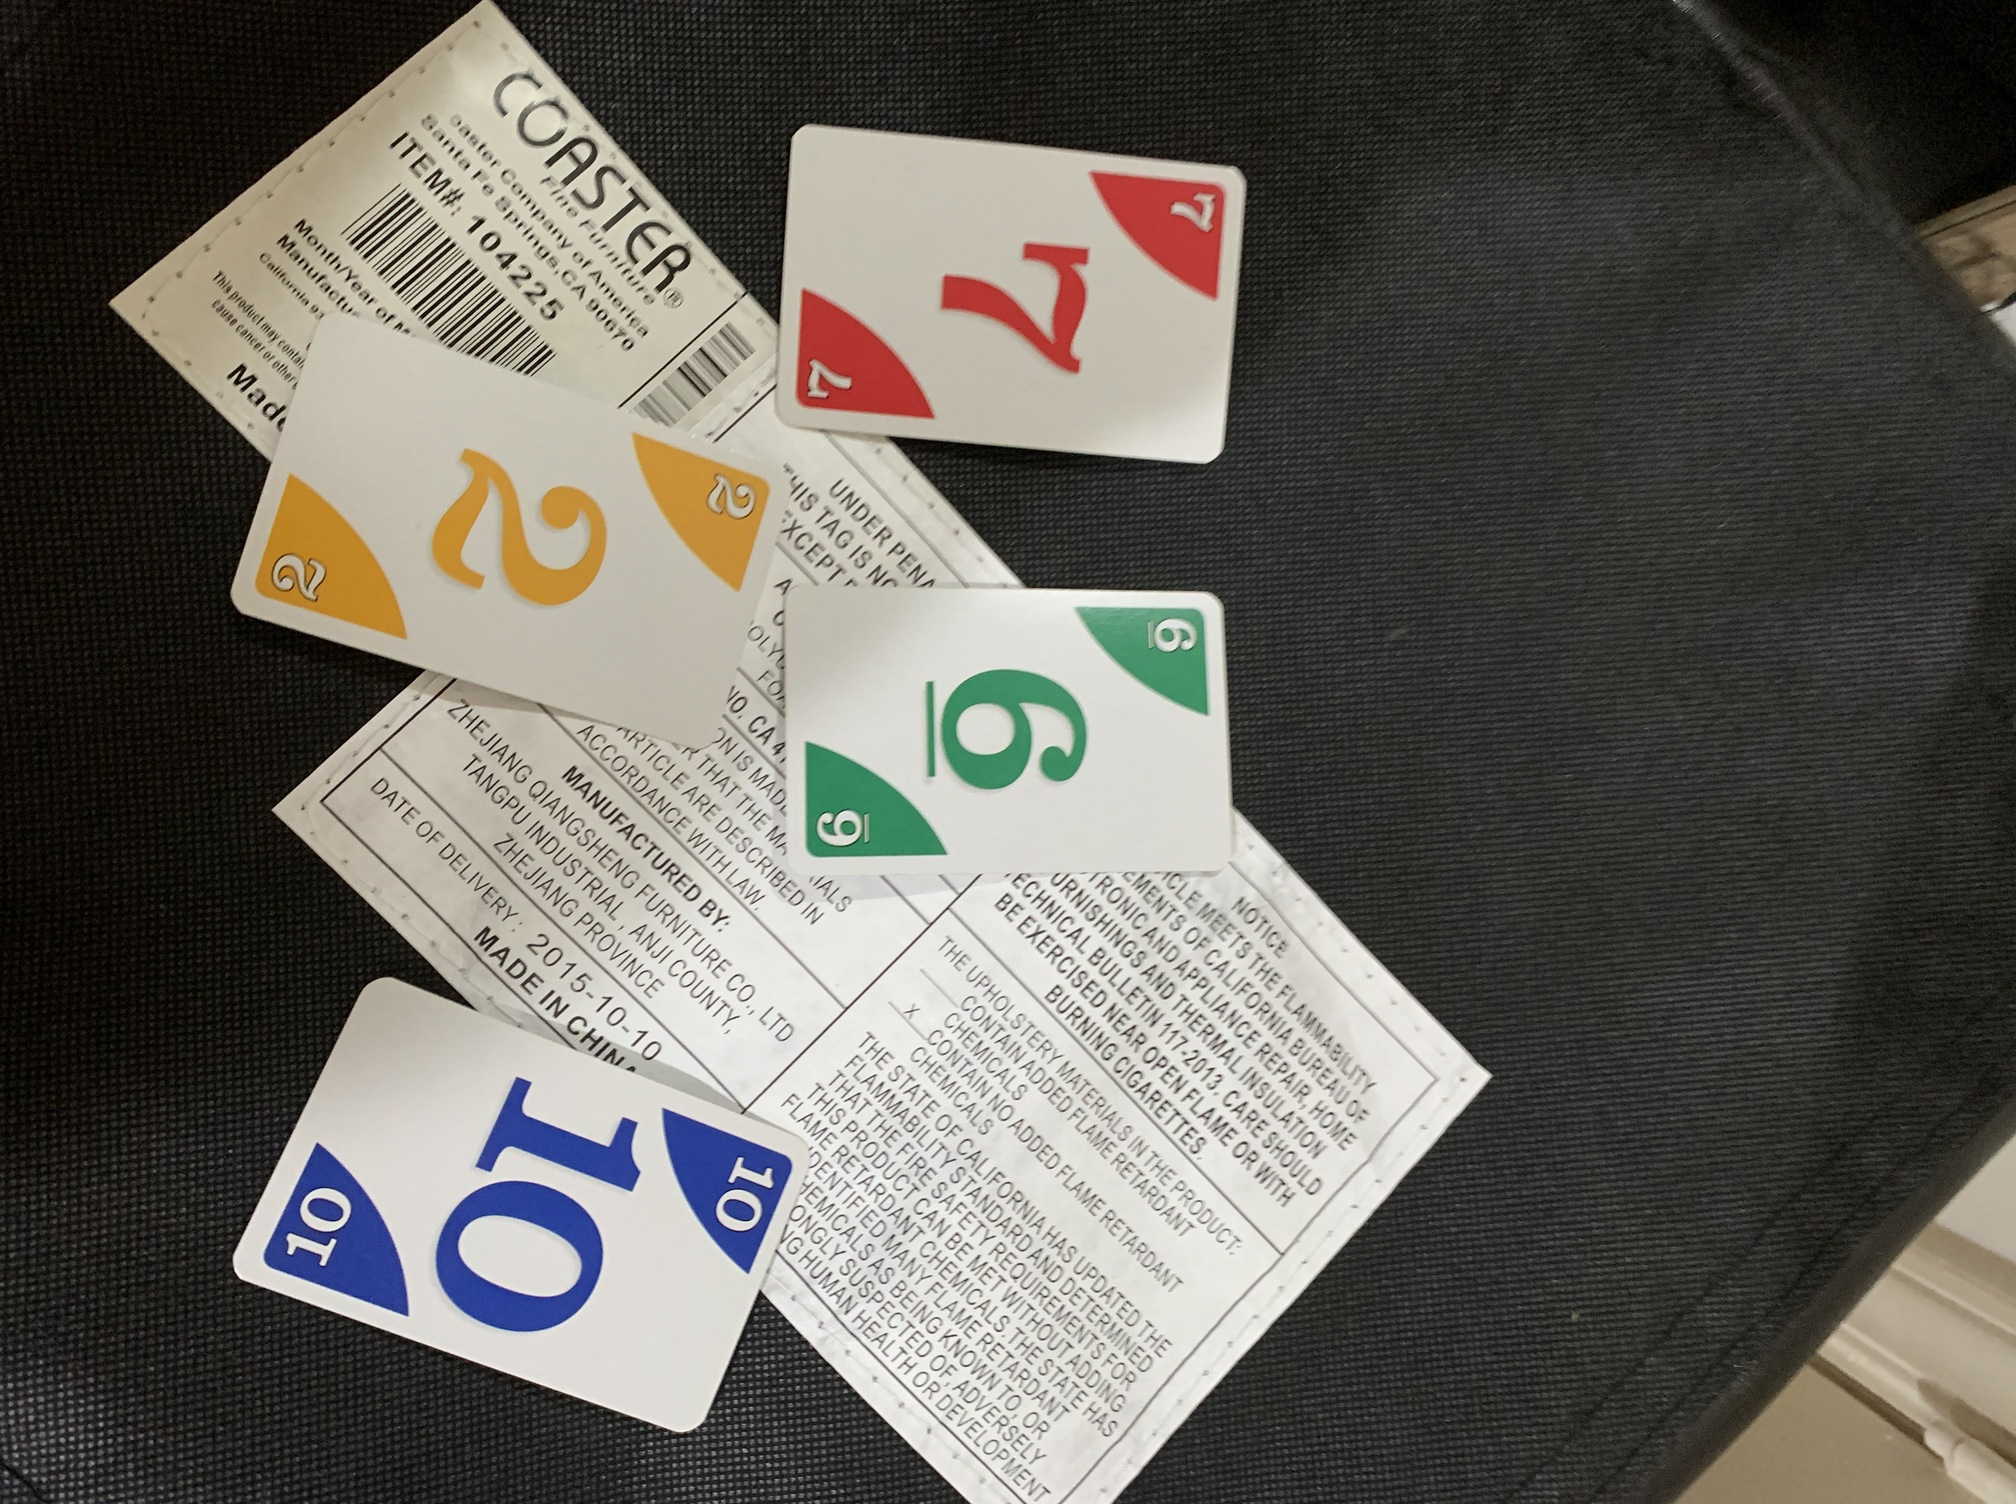seven: (773, 107, 1251, 485)
six: (776, 585, 1239, 885)
ten: (220, 970, 822, 1439)
two: (223, 308, 766, 750)
